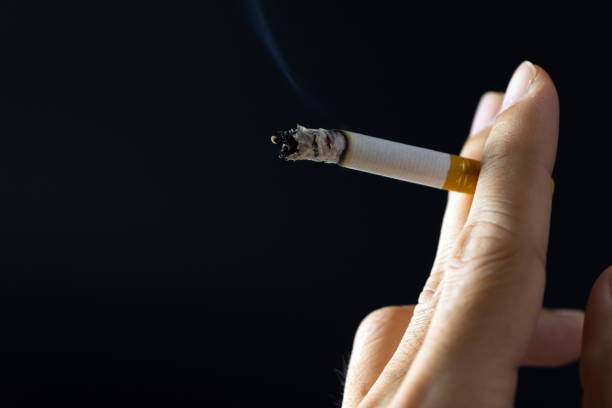cigarette: (274, 124, 475, 195)
